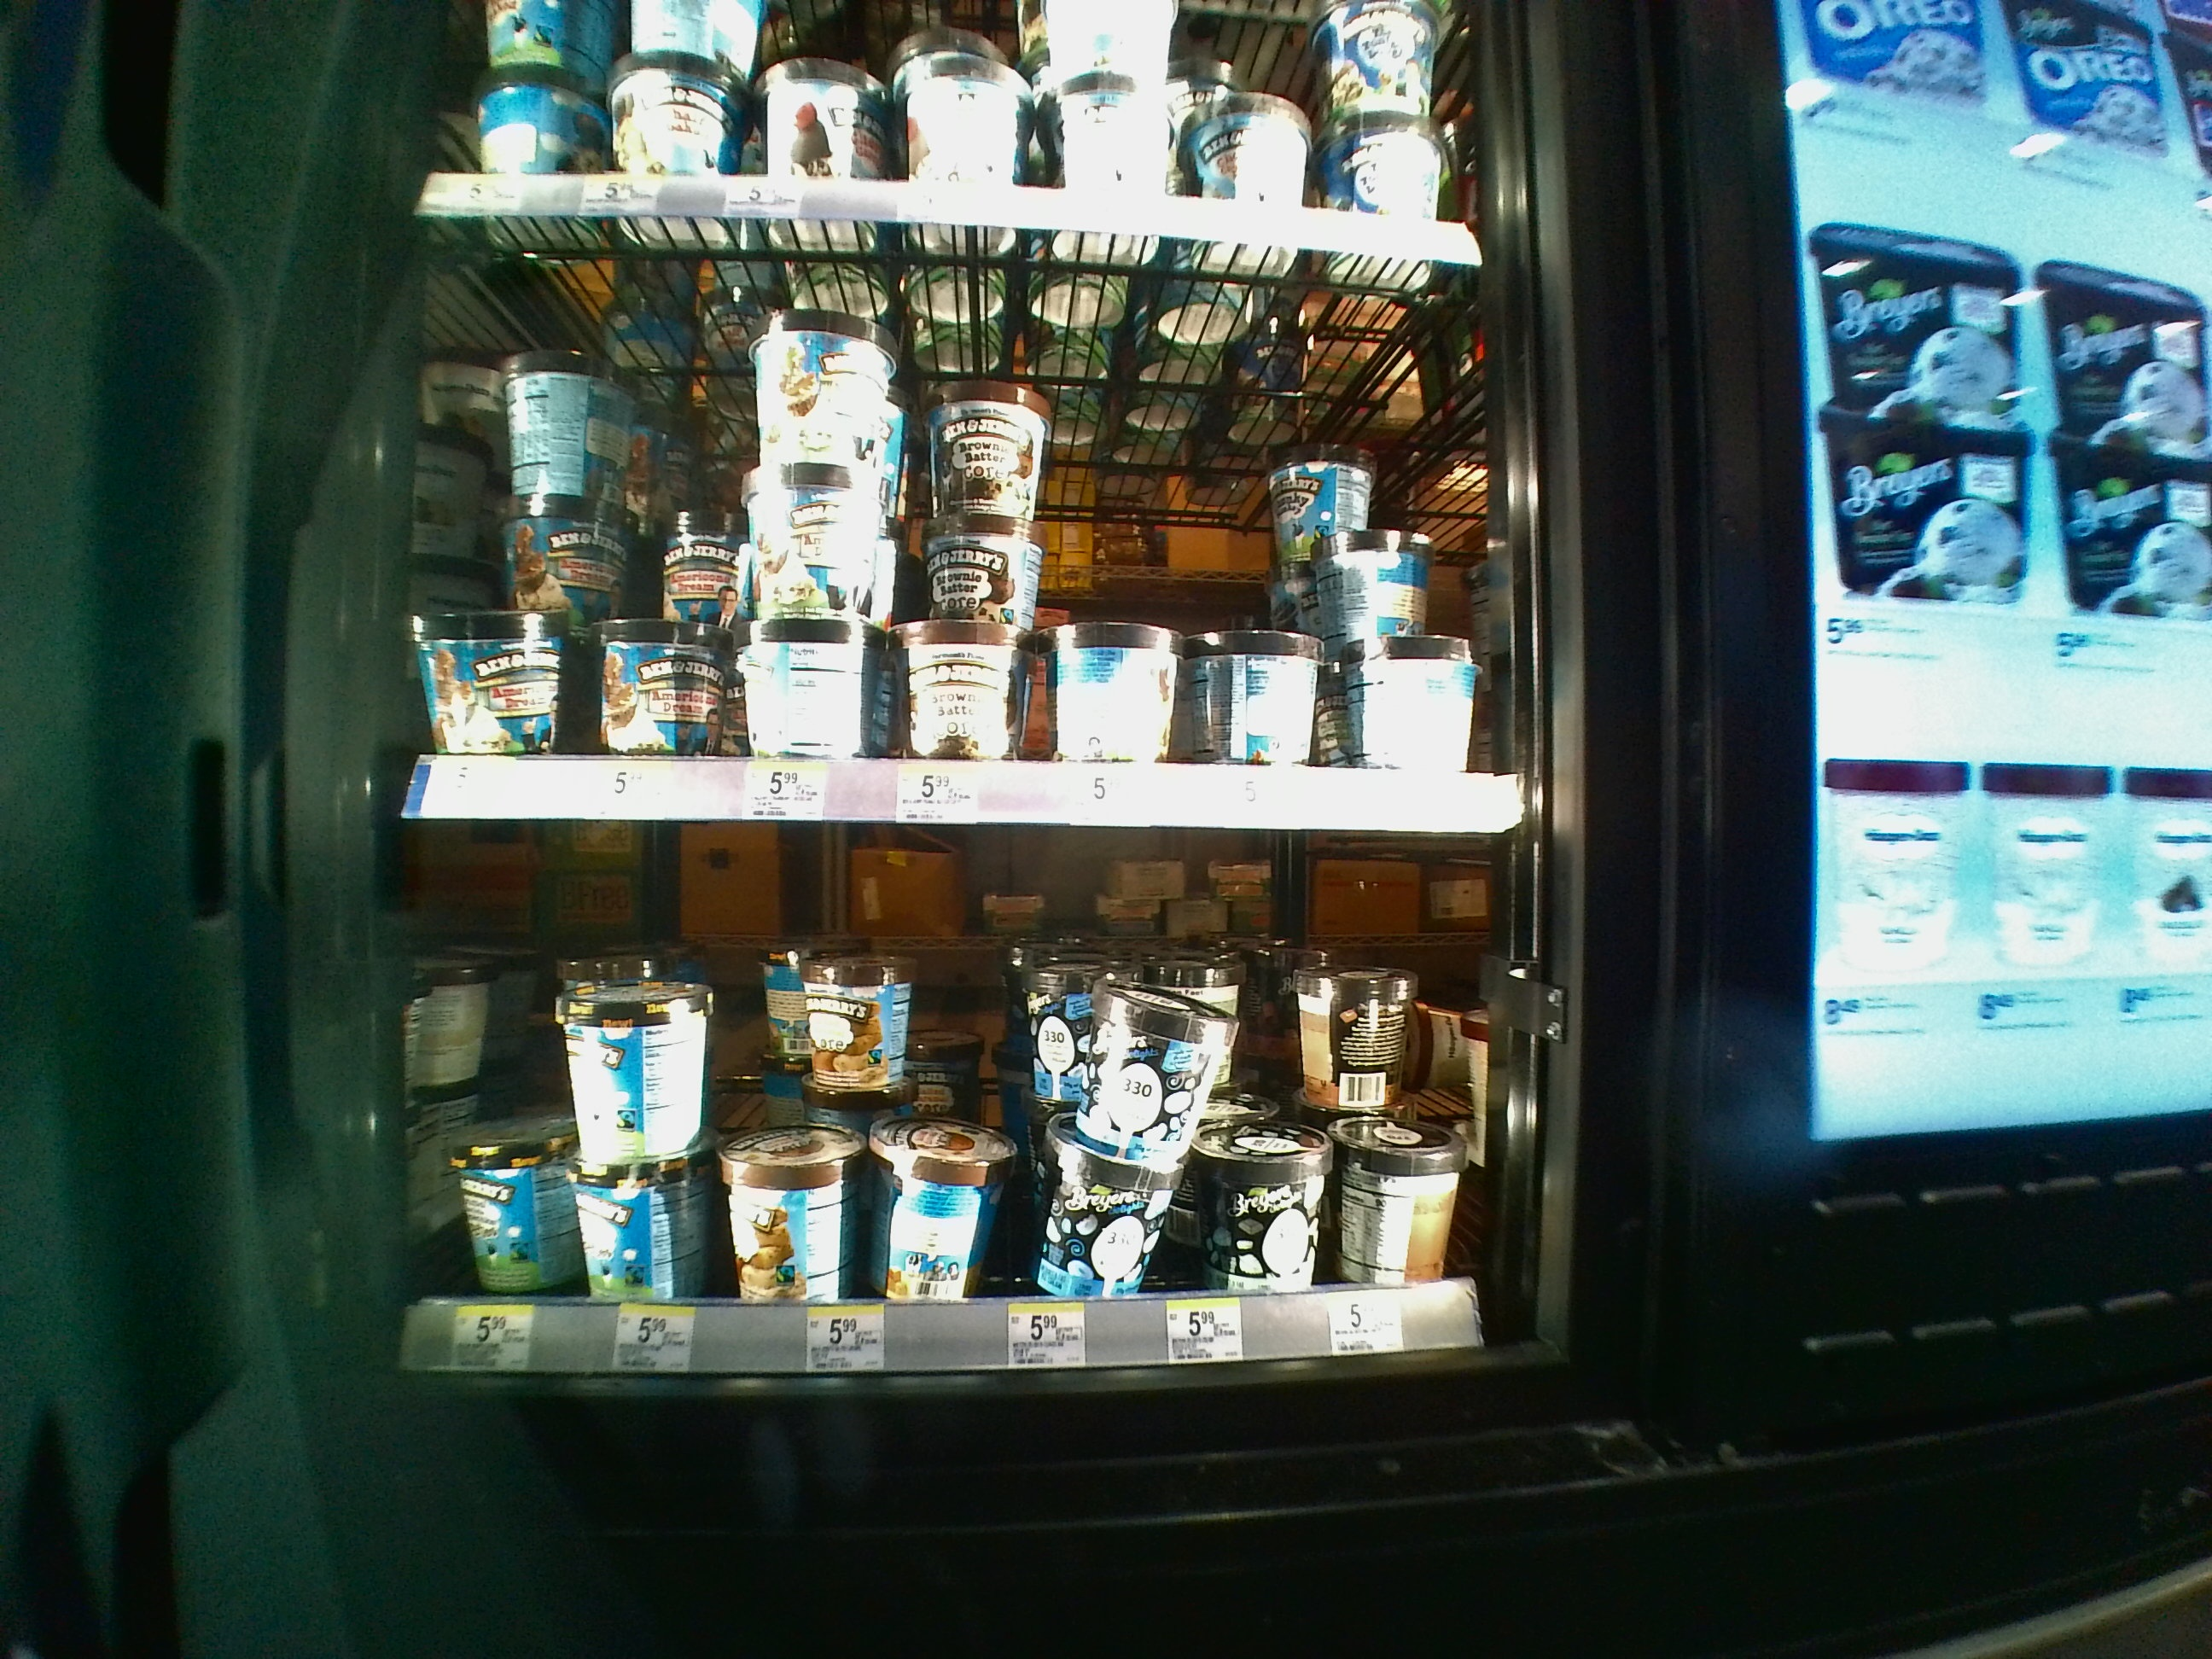shelf: (409, 227, 1496, 819), (406, 833, 1521, 1364)
